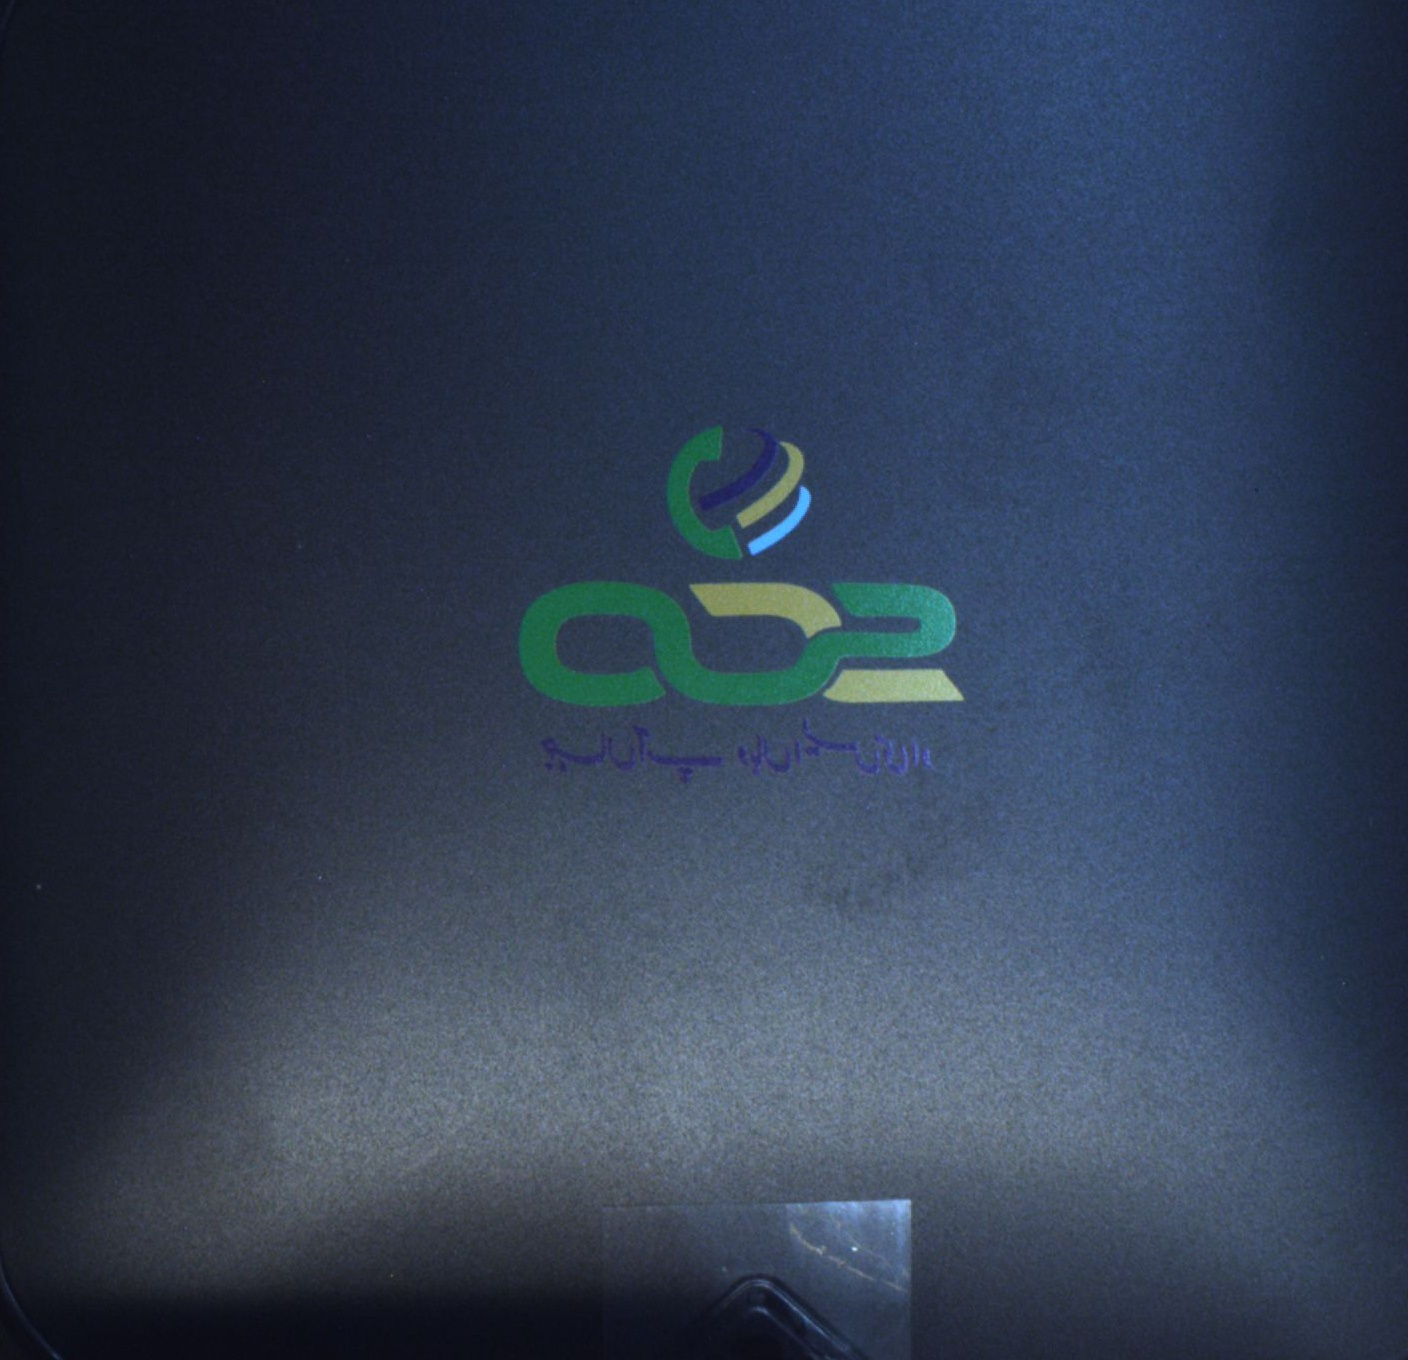BZ_HG680PSCOFirbeHome: (513, 409, 1004, 794)
